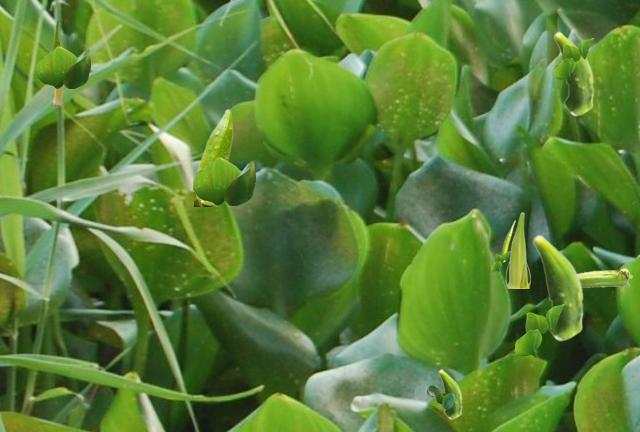okra: (532, 234, 583, 340), (194, 108, 232, 205), (553, 31, 593, 115), (505, 212, 529, 287), (438, 369, 461, 418), (578, 268, 631, 286), (53, 20, 62, 104), (501, 220, 514, 254)
